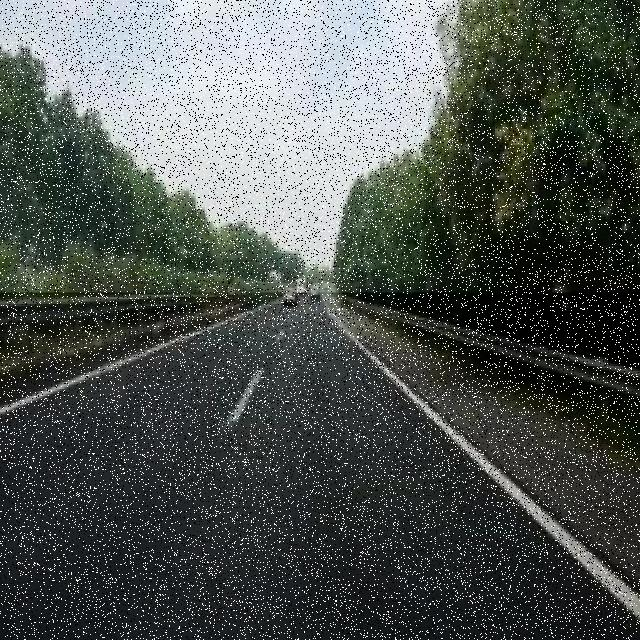clear-road: (0, 294, 640, 640)
